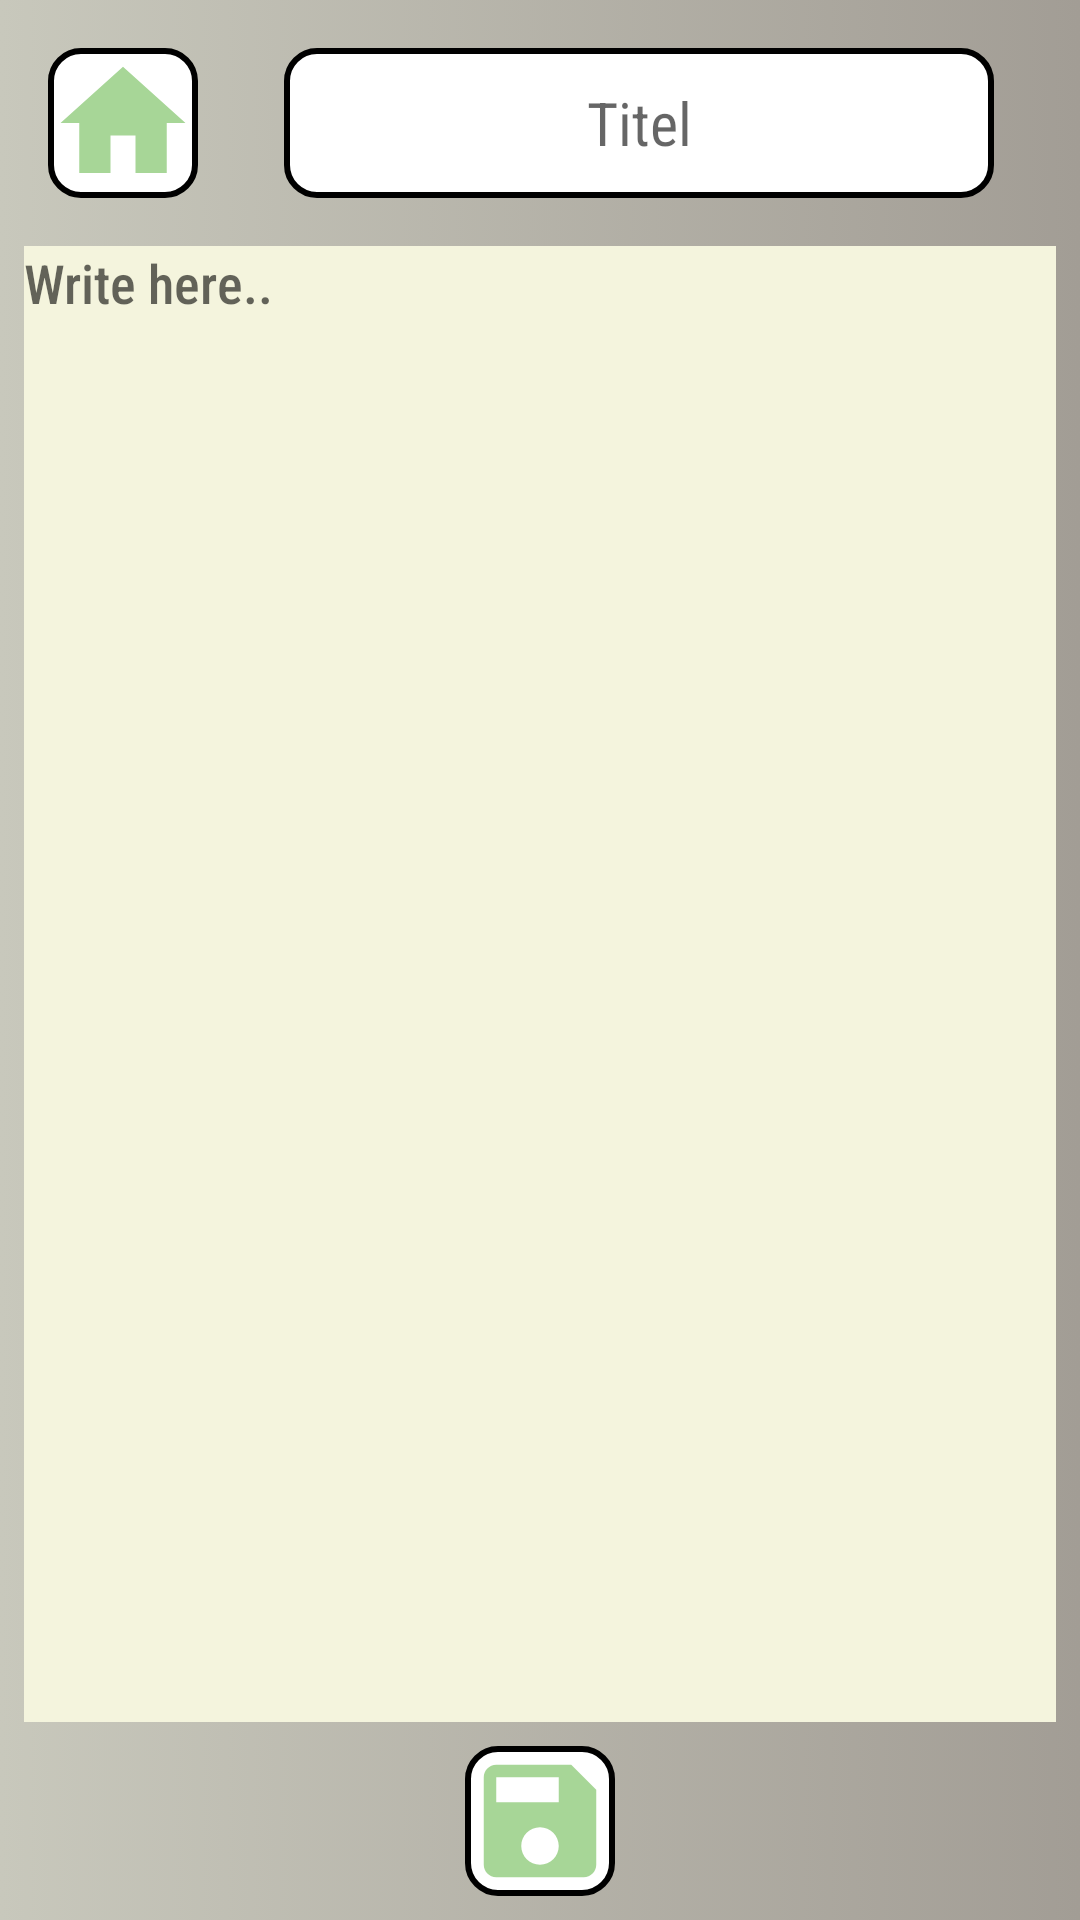

Screen size 1080w x 1920h. Icon name, then its box in pixels as {"left": x1, "top": y1, "right": x2, "bottom": y2}:
home: {"left": 48, "top": 48, "right": 198, "bottom": 198}
save: {"left": 465, "top": 1746, "right": 615, "bottom": 1896}
